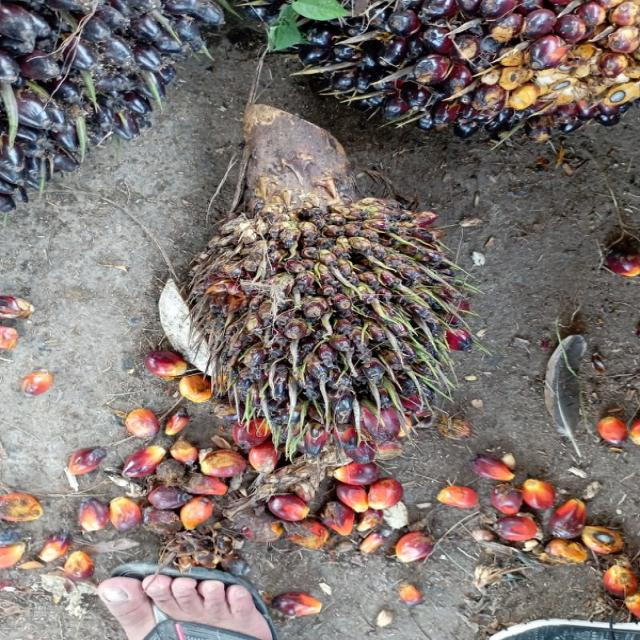fraksi 1: (145, 77, 474, 520)
